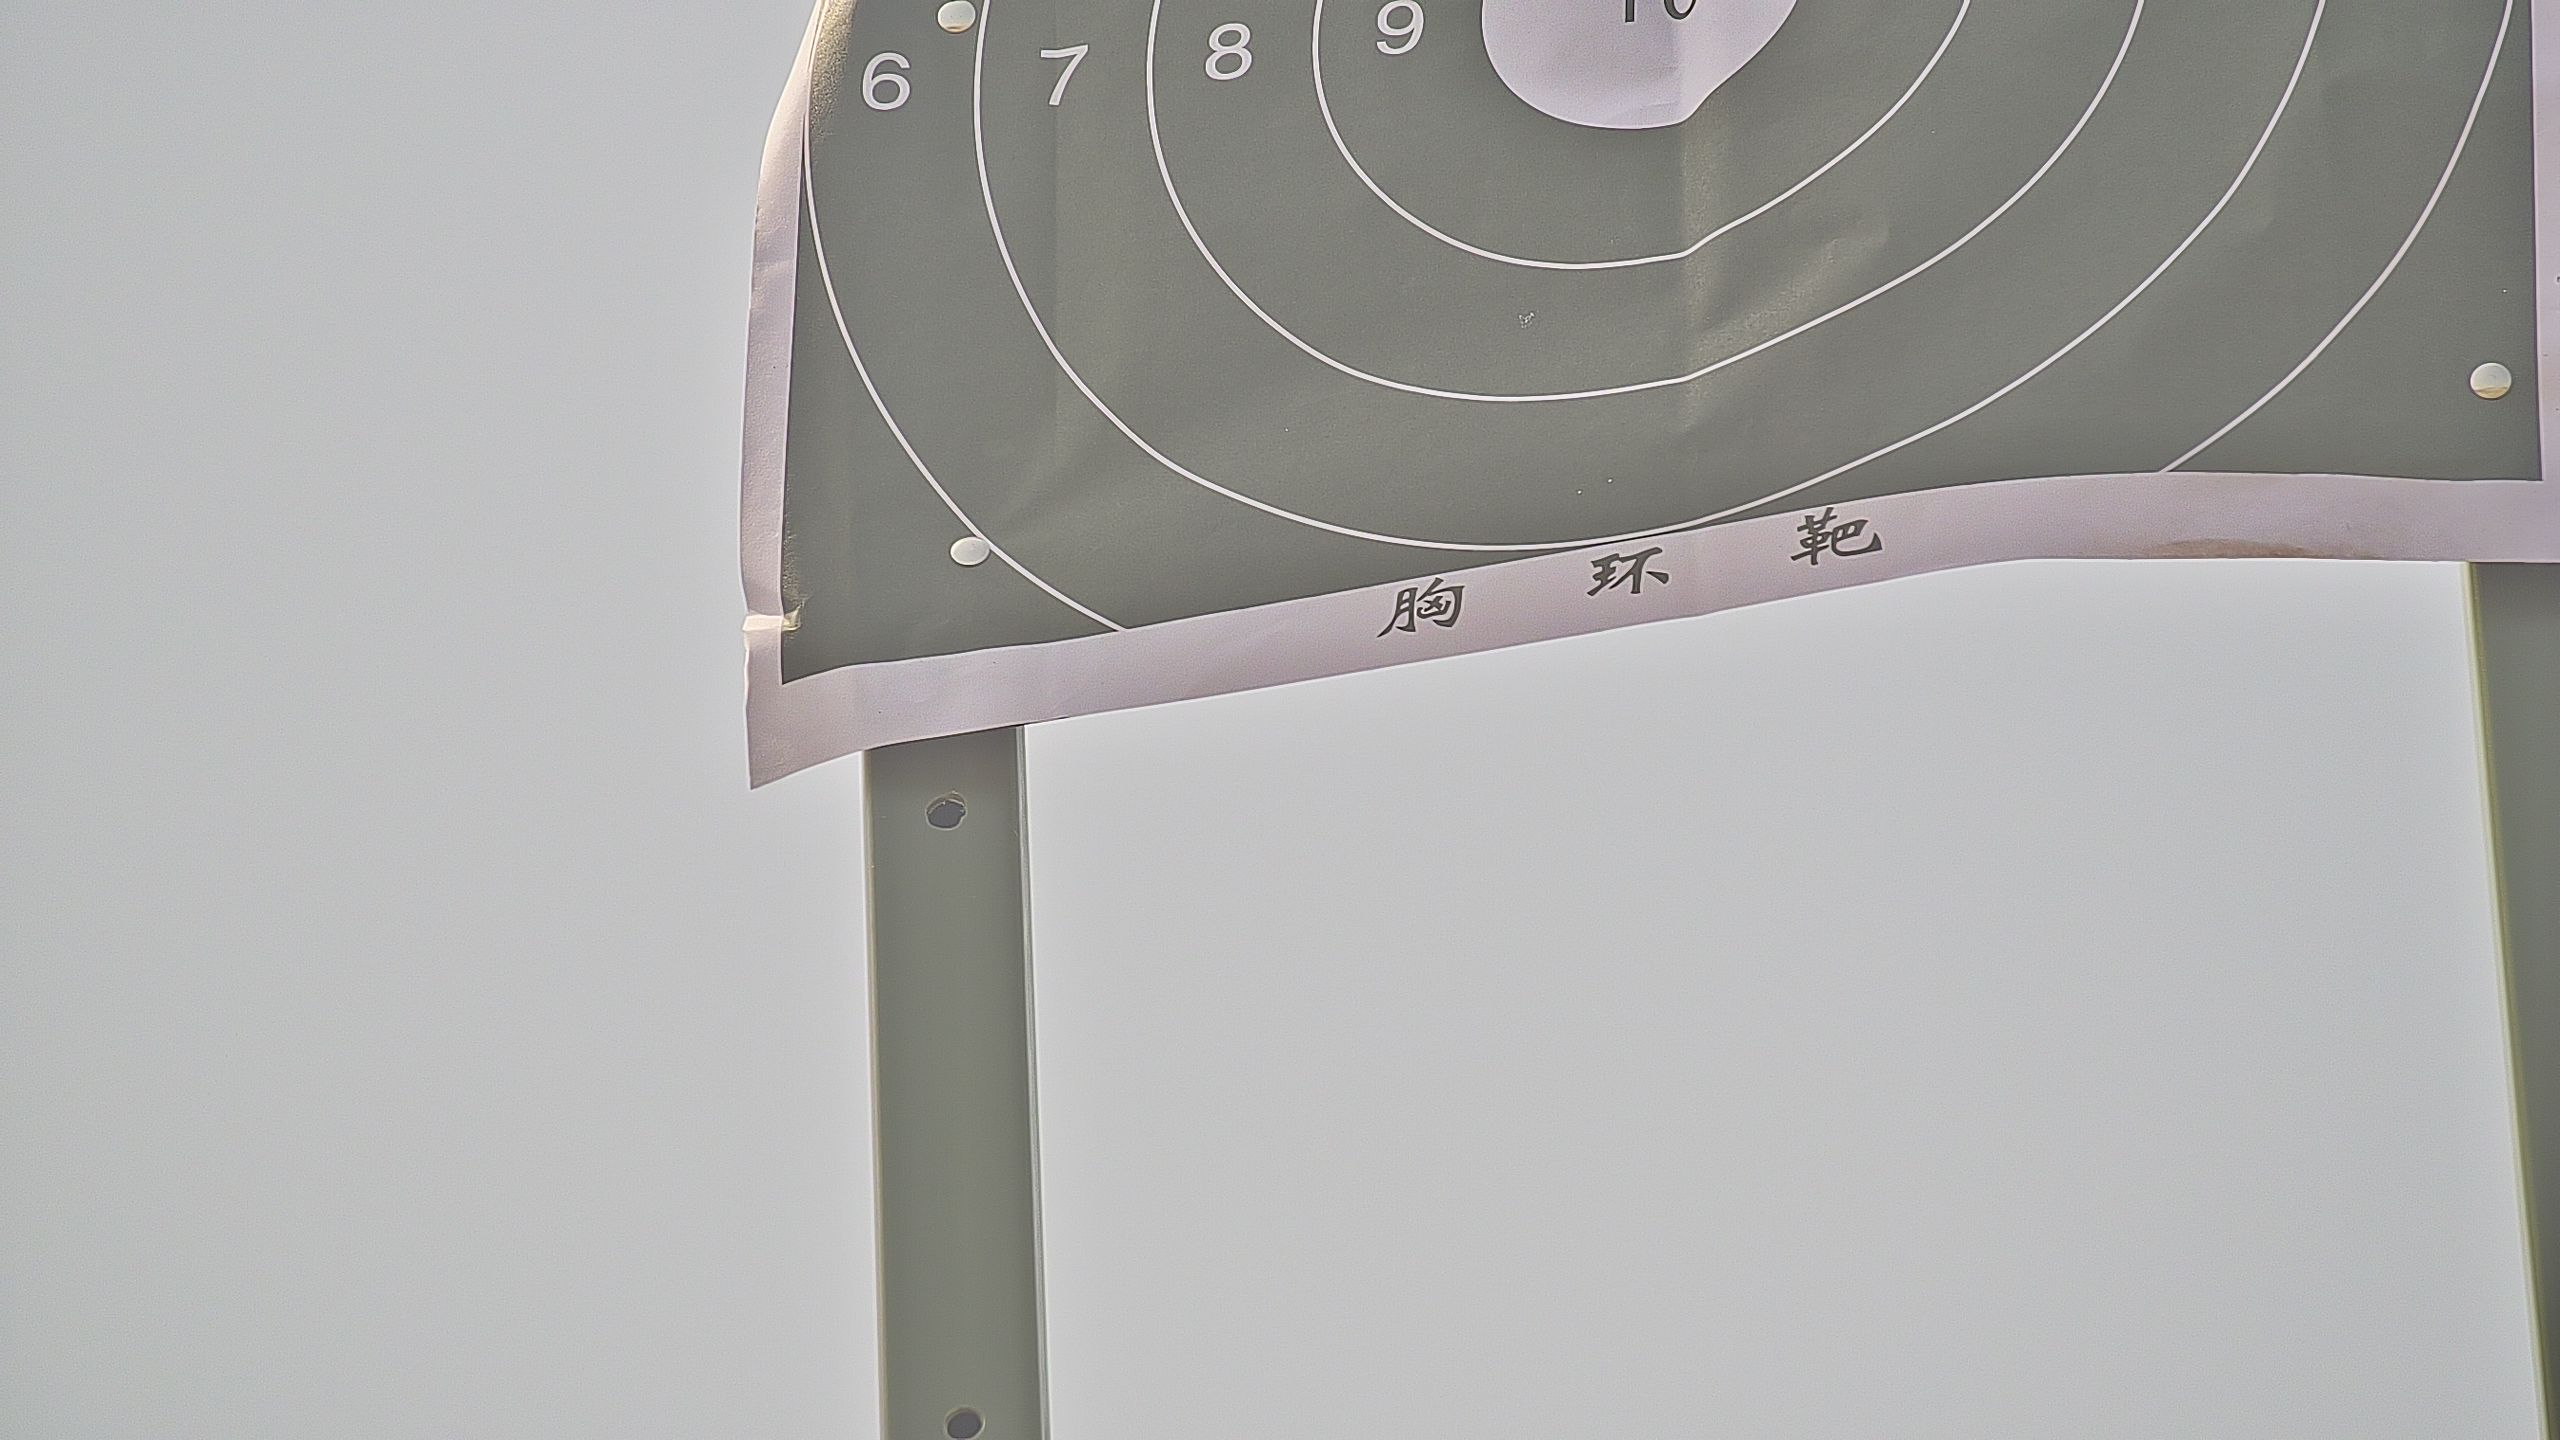target: (793, 5, 2537, 644)
ten: (1475, 2, 1802, 127)
